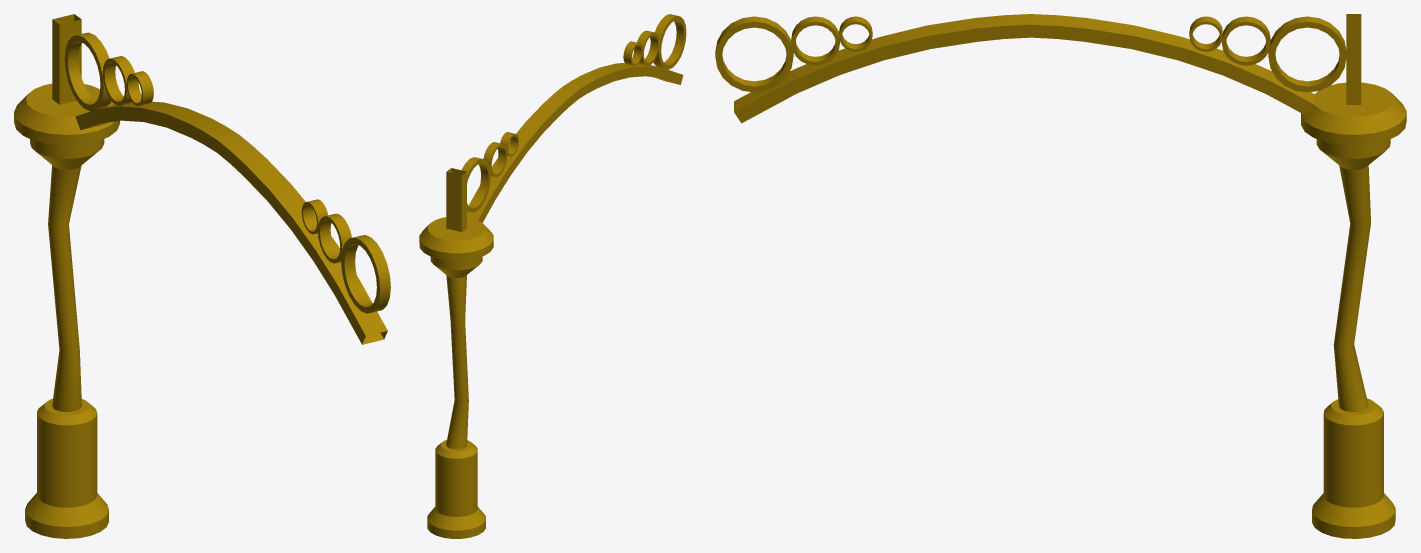
File: Gare_1_Poteau_Arche_Métal.fbx
3 views of the same model, side by side, from view 1: azimuth 30°, elevation 25°; view 2: azimuth 150°, elevation 25°; view 3: azimuth 270°, elevation 25° (orthographic). The views are drawn at different scales.
Visible parts, largest first — view 1: Gare_1_Poteau_Arche_Métal; view 2: Gare_1_Poteau_Arche_Métal; view 3: Gare_1_Poteau_Arche_Métal.
Part boxes in pixels (bbox=[...]): Gare_1_Poteau_Arche_Métal: bbox=[14, 14, 390, 538]; Gare_1_Poteau_Arche_Métal: bbox=[419, 14, 686, 538]; Gare_1_Poteau_Arche_Métal: bbox=[715, 14, 1406, 538].
Bounding box in the file's own units: 0.6549 × 3.43 × 4.28.
